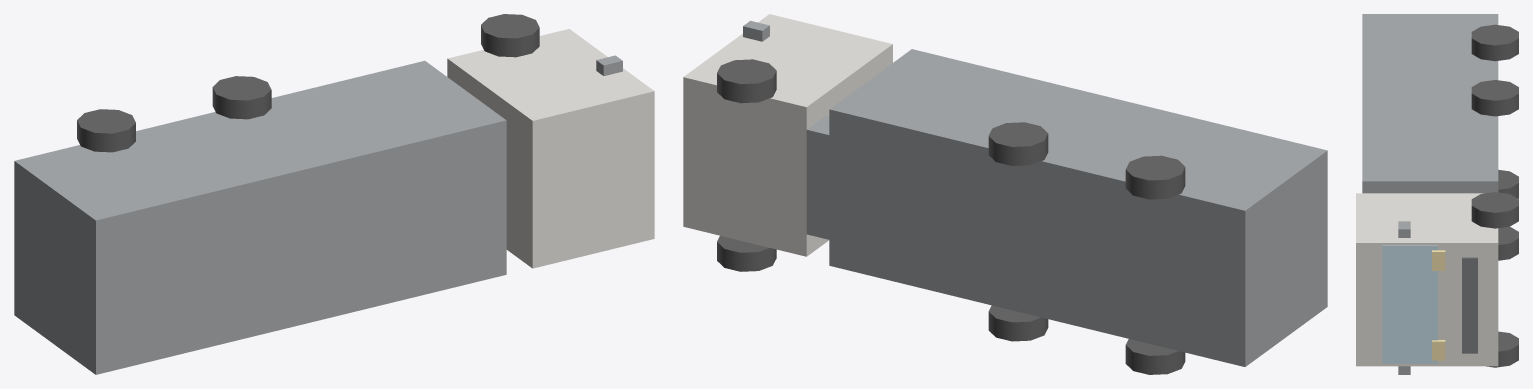
The model's file is semi.glb.
The picture shows the model from 3 angles, left to right: view 1: azimuth 30°, elevation 25°; view 2: azimuth 150°, elevation 25°; view 3: azimuth 270°, elevation 25°; orthographic projection. The views are drawn at different scales.
Visible parts, largest first — view 1: semi; view 2: semi; view 3: semi.
Boxes of the visible parts, x1=… form: semi: x1=14, y1=14, x2=654, y2=374; semi: x1=683, y1=14, x2=1327, y2=374; semi: x1=1356, y1=14, x2=1518, y2=374.
Bounding box in the file's own units: 8.71 × 2.86 × 2.63.
